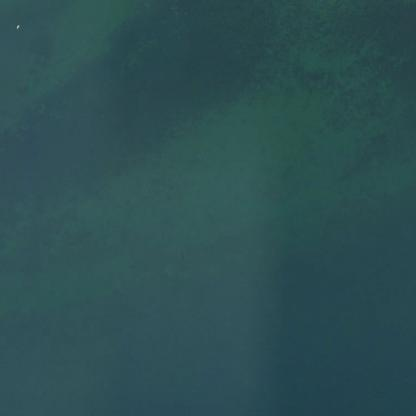ship: (13, 23, 18, 30)
